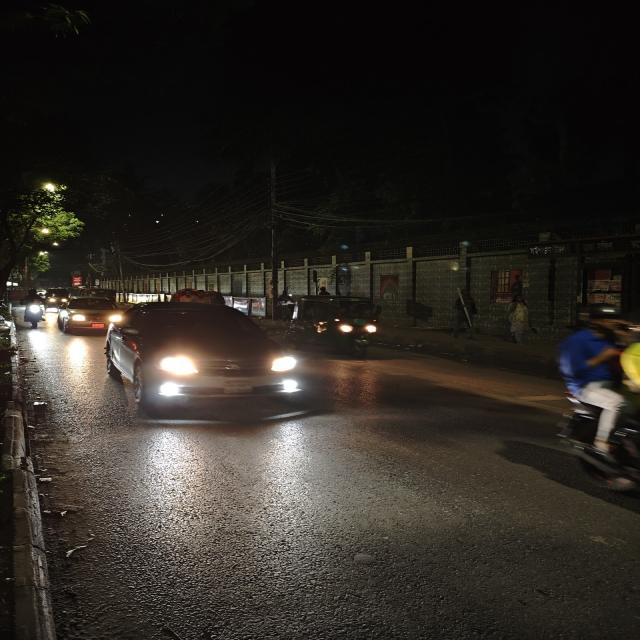car: (95, 300, 302, 422), (54, 295, 124, 335)
cng: (291, 292, 391, 356)
motorcycle: (21, 289, 48, 330)
